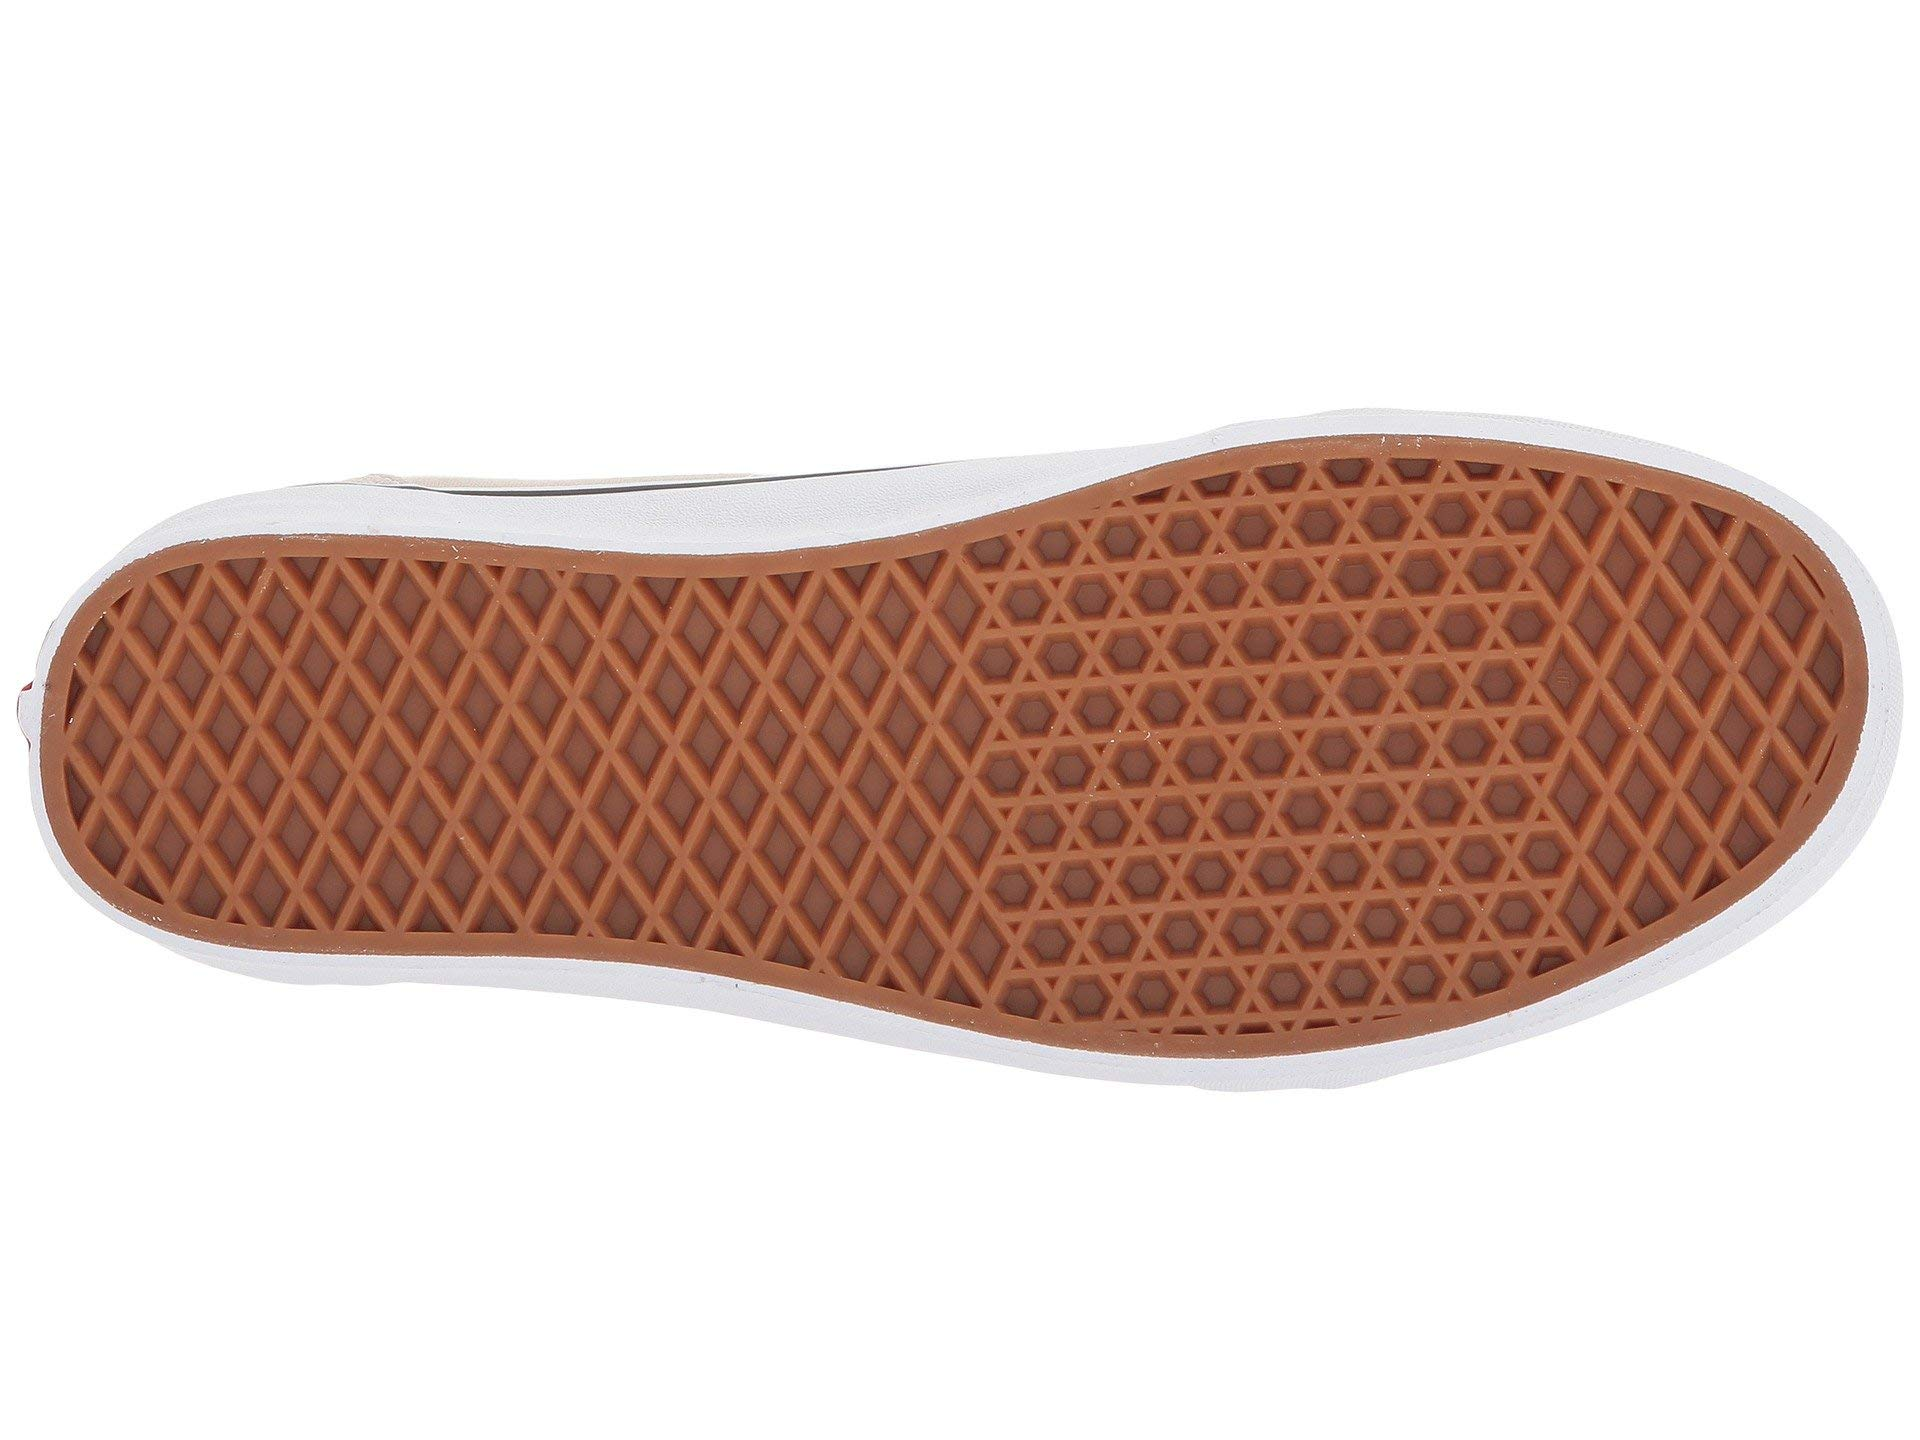polygon: (1095, 502, 1524, 985)
quad: (160, 591, 957, 948), (1550, 517, 1782, 867)
triangle: (1095, 502, 1524, 985)
